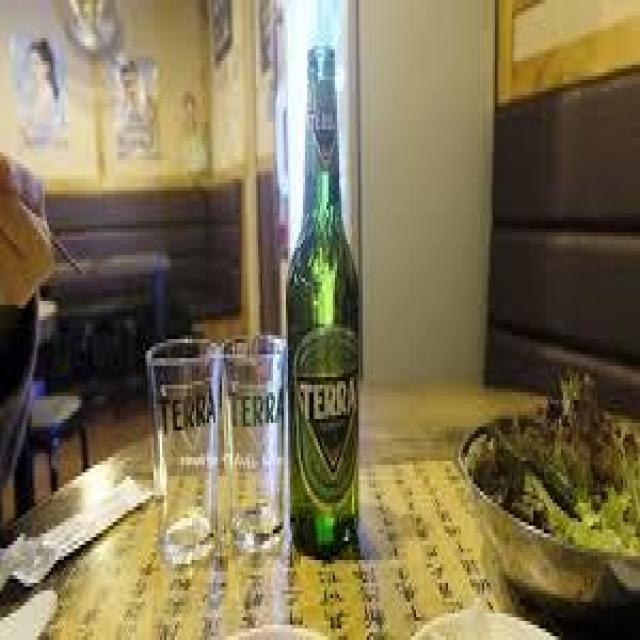beer-bottle: (277, 38, 369, 564)
